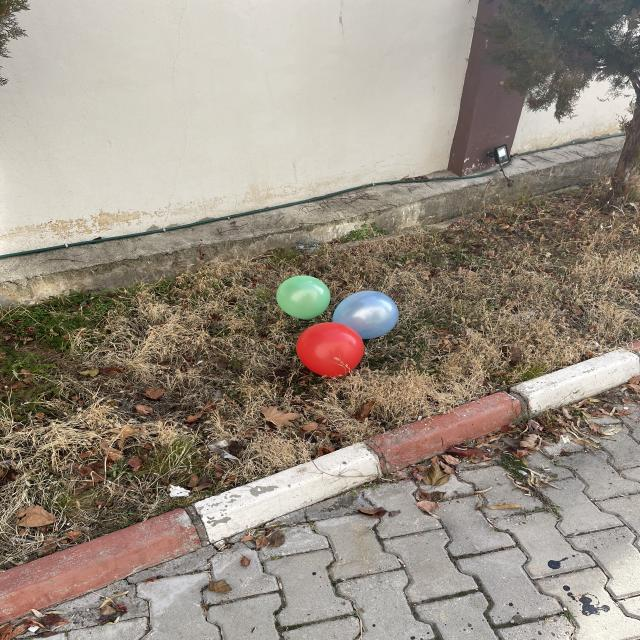balloon: (297, 322, 364, 377), (333, 291, 399, 339), (277, 275, 330, 319)
